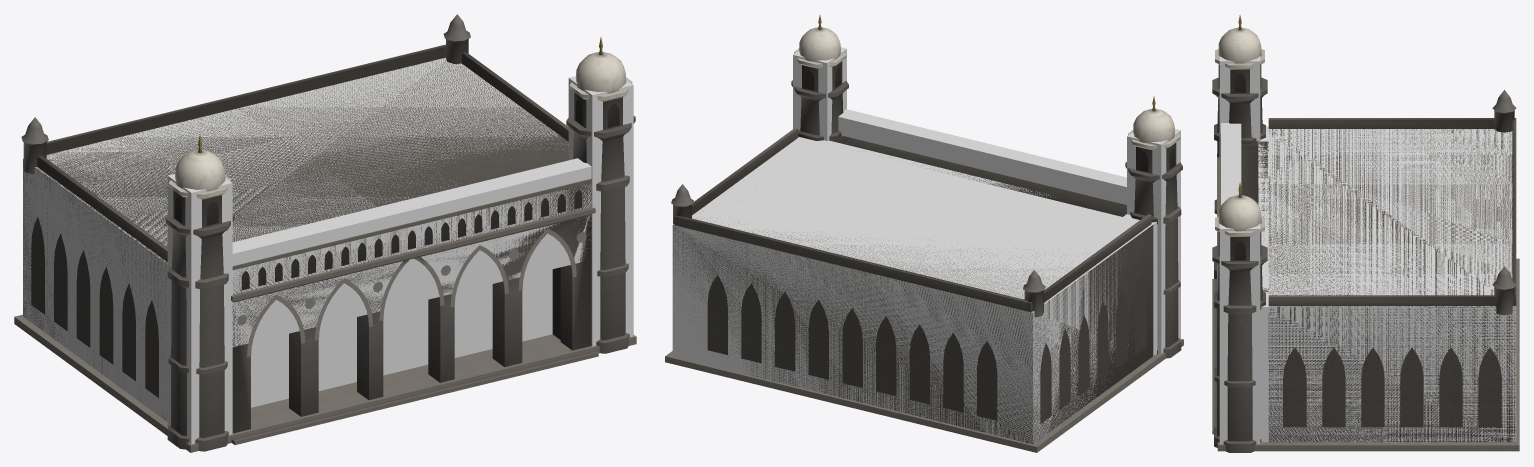
The model's file is mecca_masjid.glb.
3 views of the same model, side by side, from view 1: azimuth 30°, elevation 25°; view 2: azimuth 150°, elevation 25°; view 3: azimuth 270°, elevation 25° (orthographic). The views are drawn at different scales.
Parts seen in each view (by area): view 1: mecca_masjid_body, COL_mecca; view 2: COL_mecca, mecca_masjid_body; view 3: mecca_masjid_body, COL_mecca.
Boxes of the visible parts, bbox=[...] form: mecca_masjid_body: bbox=[14, 14, 636, 452]; COL_mecca: bbox=[23, 57, 633, 444]; COL_mecca: bbox=[672, 47, 1180, 443]; mecca_masjid_body: bbox=[665, 15, 1183, 452]; mecca_masjid_body: bbox=[1212, 15, 1519, 452]; COL_mecca: bbox=[1219, 56, 1516, 444].
Size of the model in its own units: 133 by 84.64 by 90.6.
6 materials, 6 textured.
